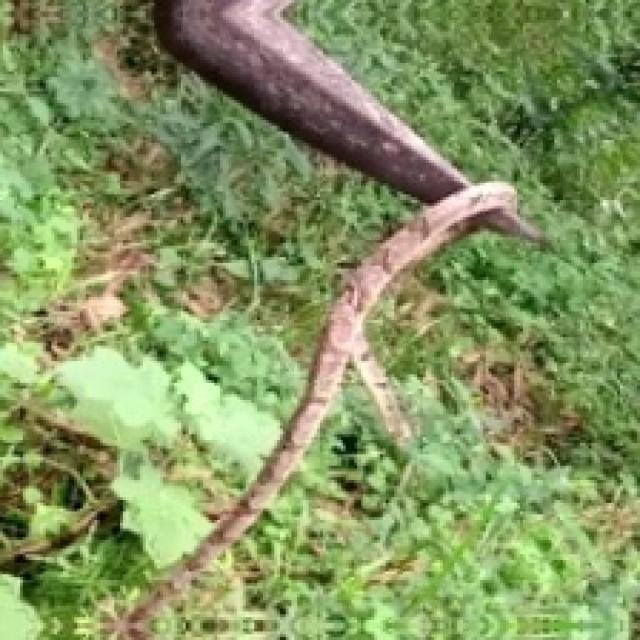dog-toothed cat snake: (116, 181, 533, 640)
